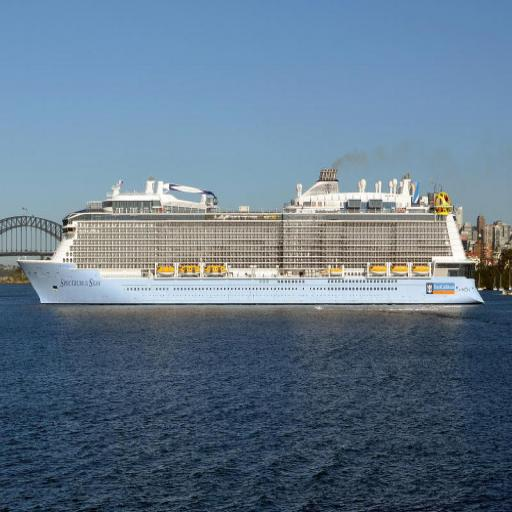cruises: (18, 172, 492, 310)
